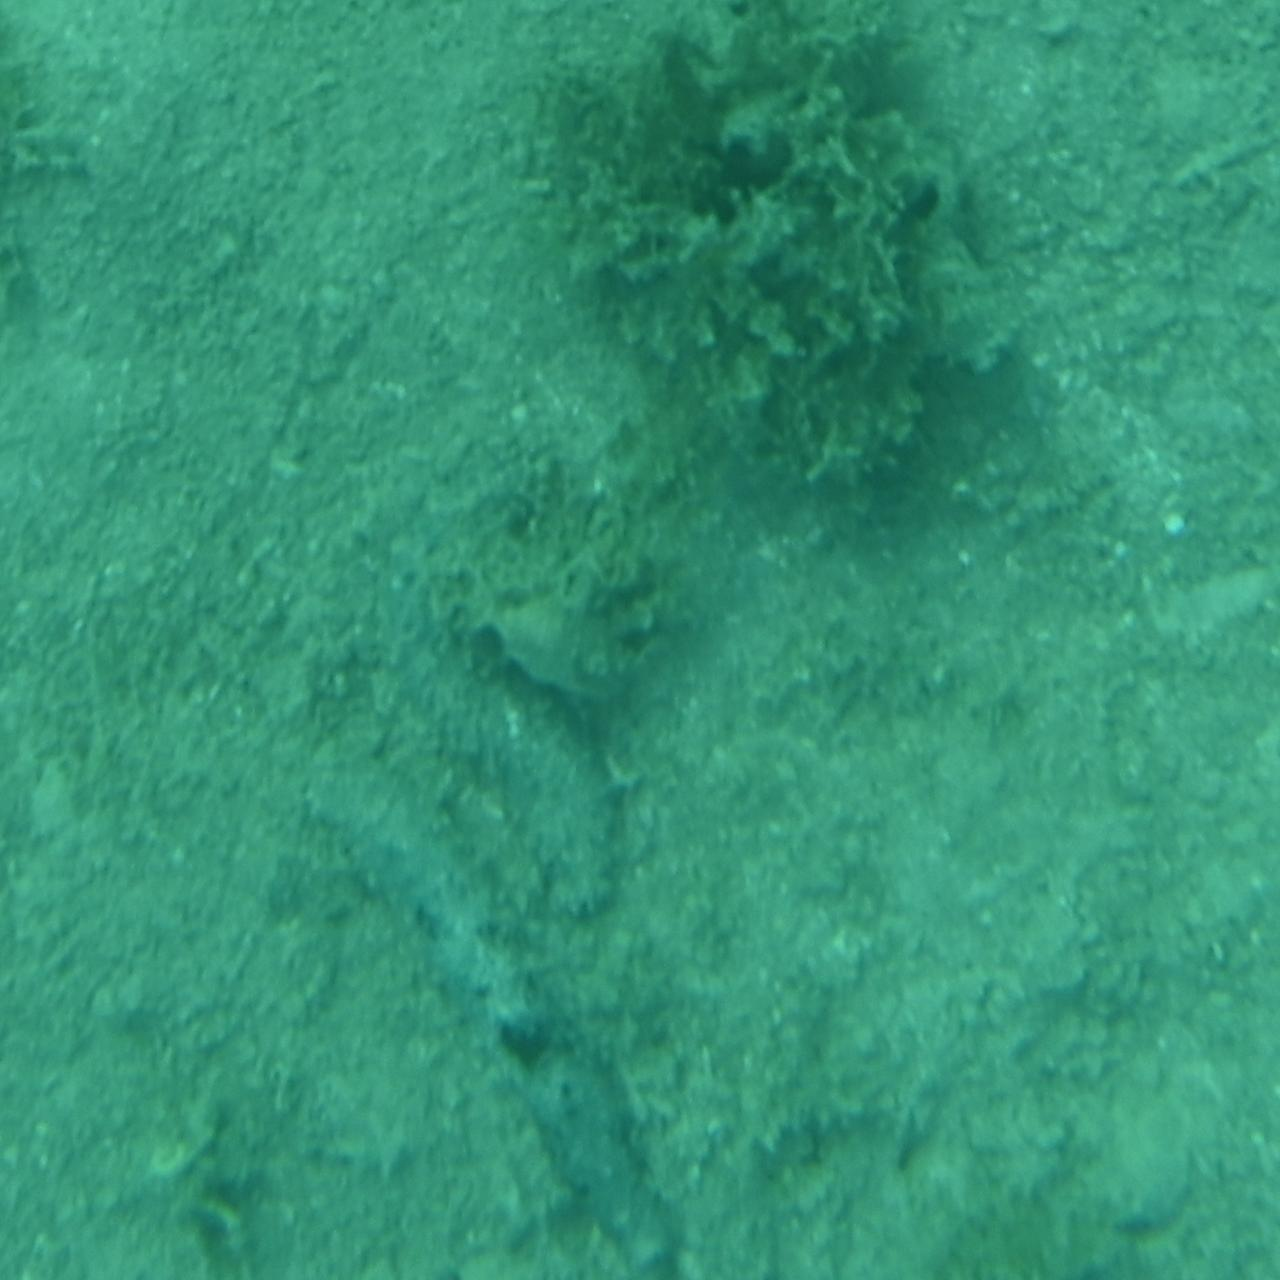Holothuria tubulosa: (312, 768, 694, 1276), (349, 626, 647, 940)
Phaeophyceae -cfr Cystoseira-: (546, 0, 1017, 549)
